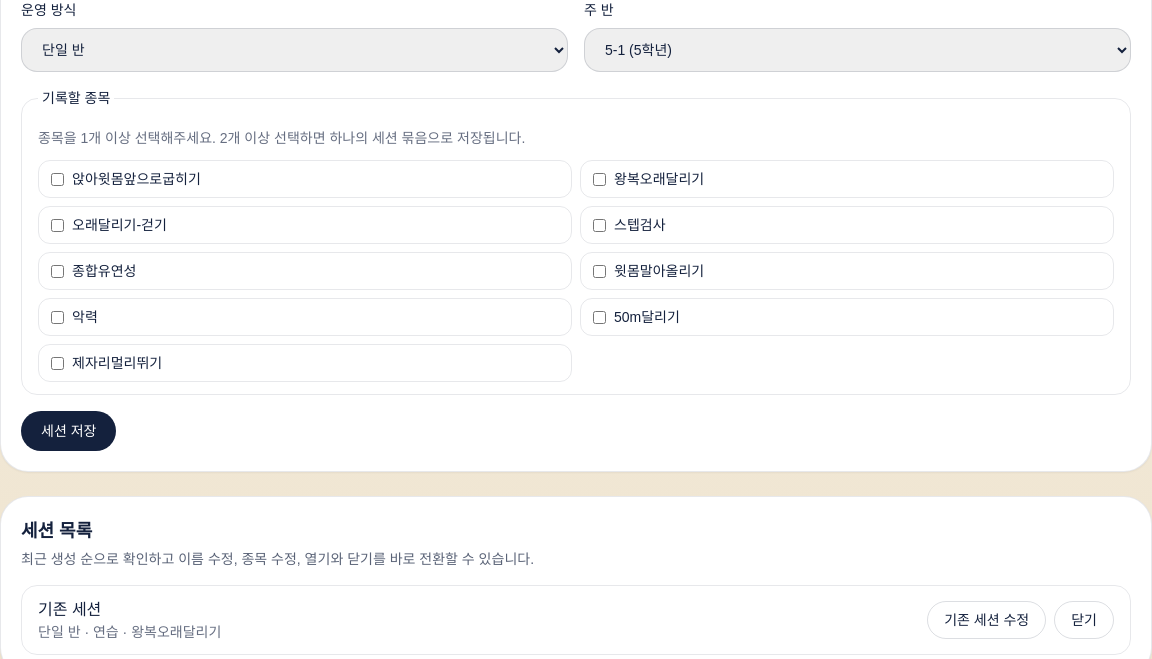
Scenario: teacher local mutation refresh behavior › edits a session name locally and only syncs the next version baseline
(page scrolled)
Click the button "기존 세션 수정" at (987, 620), box [927,601,1046,639]
(page scrolled)
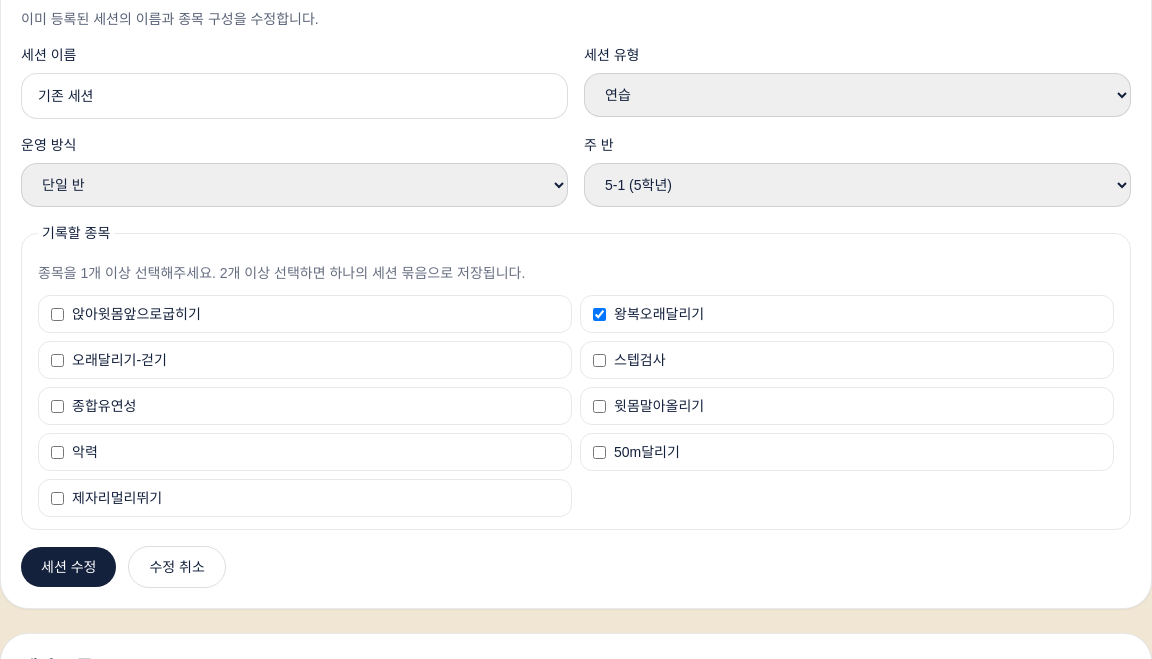
Now the field labelled "세션 이름" holds "기존 세션"
Replace the text in the field labelled "세션 이름" with "수정된 세션" at (294, 96), box [21,73,568,119]
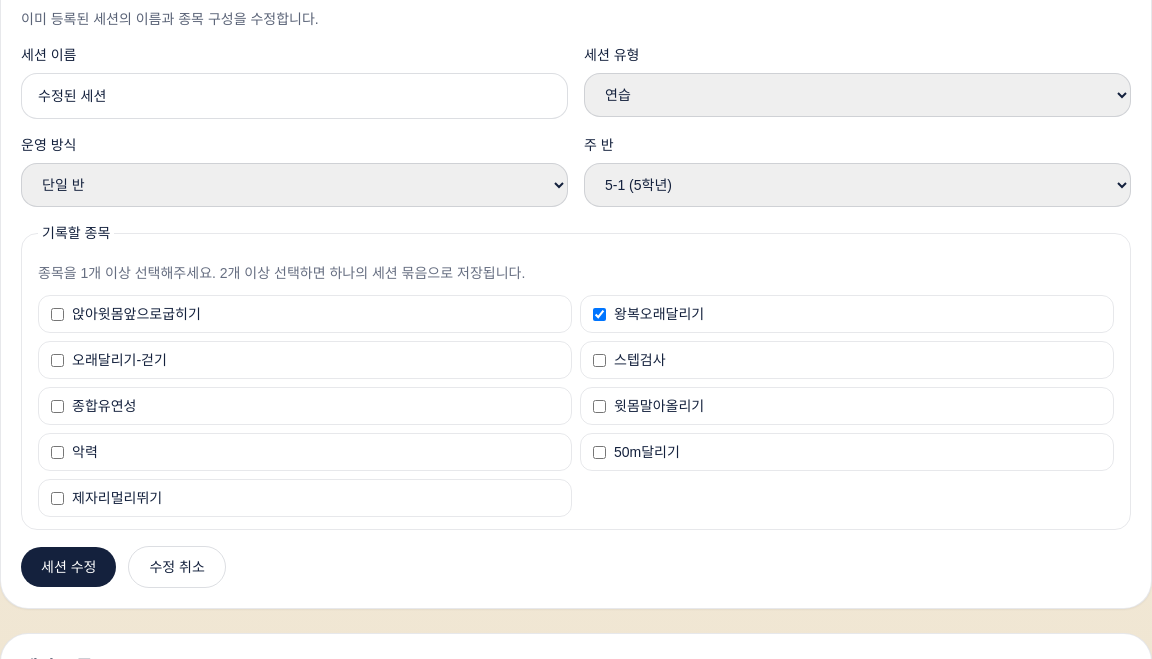
Click the button "세션 수정" at (69, 567), box [21,547,116,587]
(page scrolled)
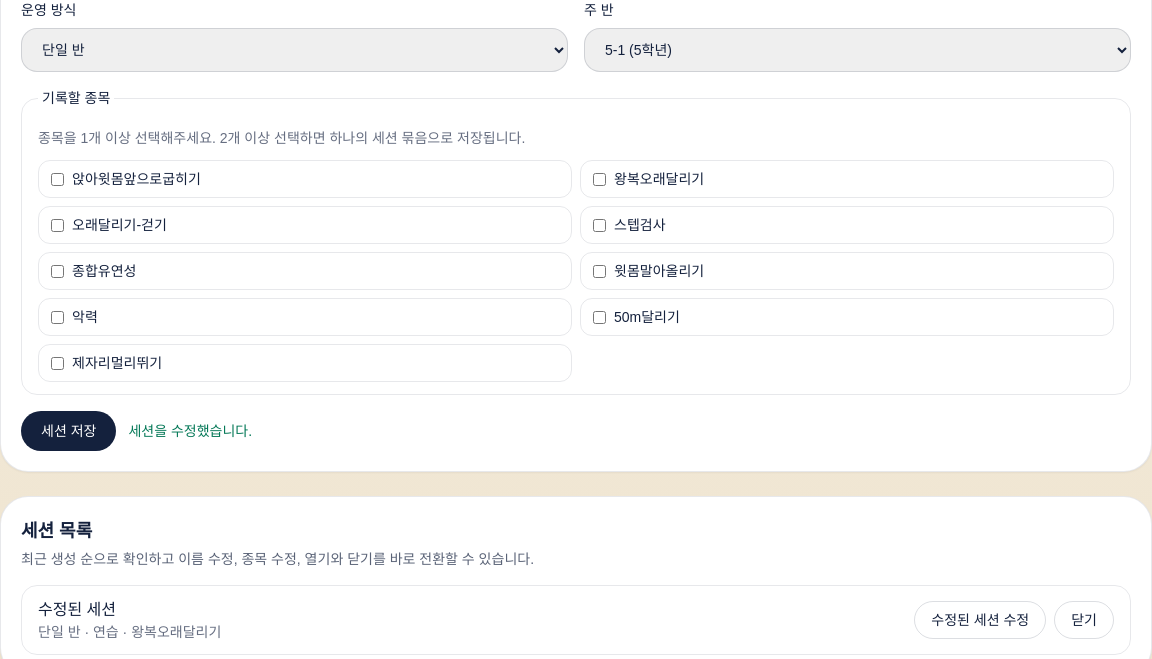
Now the text "세션을 수정했습니다." is shown, box [128,421,252,441]
Now the text "수정된 세션" is shown, box [38,601,116,618]
